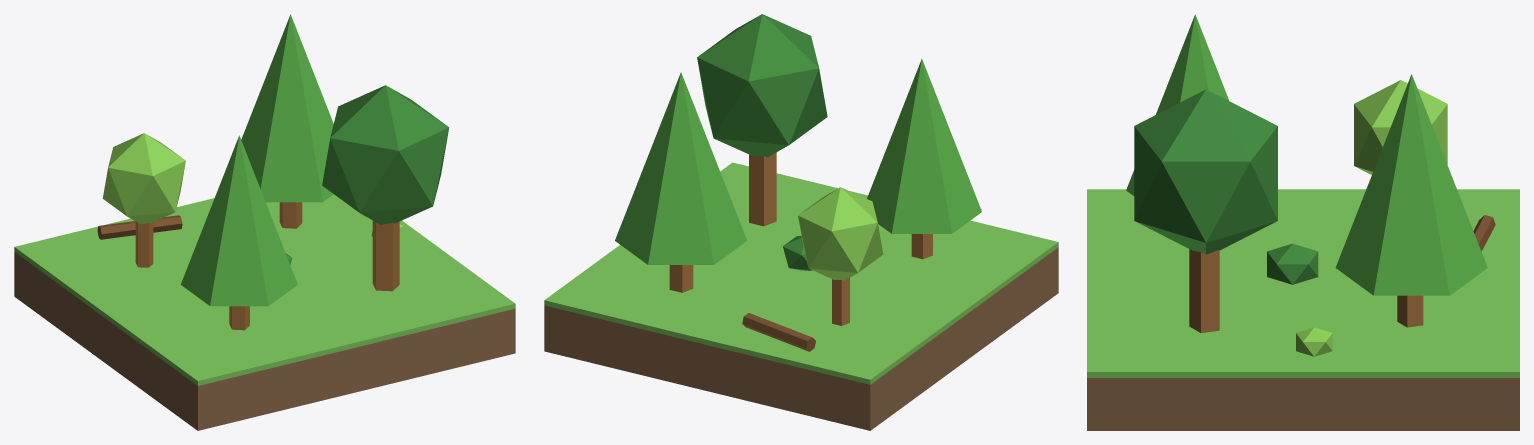
File: arvores_mata.glb
The picture shows the model from 3 angles, left to right: view 1: azimuth 30°, elevation 25°; view 2: azimuth 150°, elevation 25°; view 3: azimuth 270°, elevation 25°; orthographic projection. The views are drawn at different scales.
Parts seen in each view (by area): view 1: corpo; view 2: corpo; view 3: corpo.
Part boxes in pixels (x1,y1,x2,y2): corpo: (14,14,515,430); corpo: (544,14,1058,430); corpo: (1087,14,1519,430).
Bounding box in the file's own units: 2 × 1.56 × 2.
